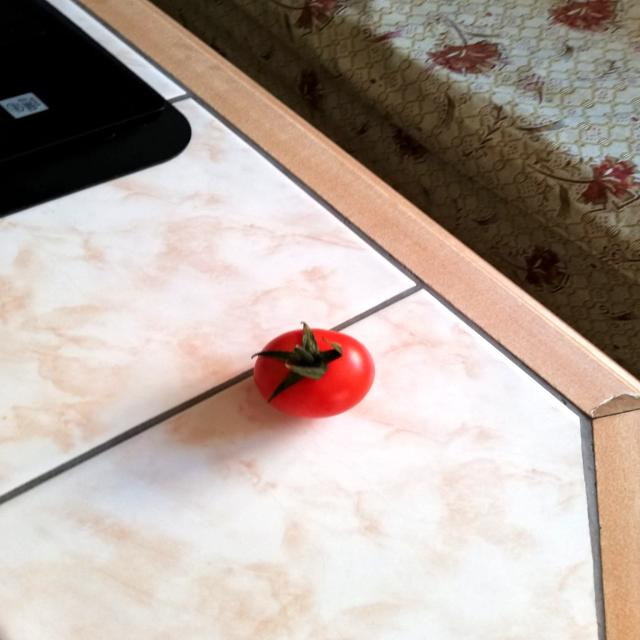tomato: (240, 310, 381, 424)
